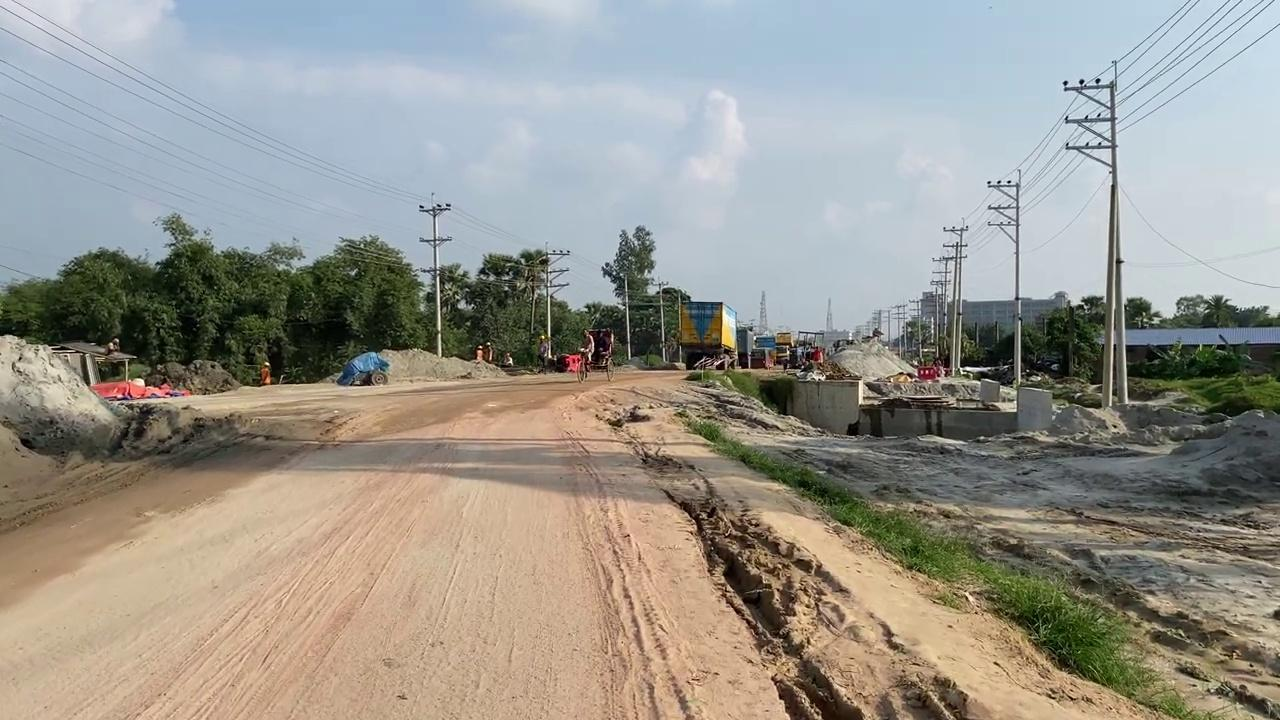Obstacle: (781, 368, 1043, 434)
Pole: (1102, 217, 1117, 406)
Rickshaw: (636, 351, 1269, 718)
Traffic-sign: (640, 206, 693, 281)
Tree: (658, 256, 737, 348), (806, 309, 849, 344), (522, 320, 561, 345)
